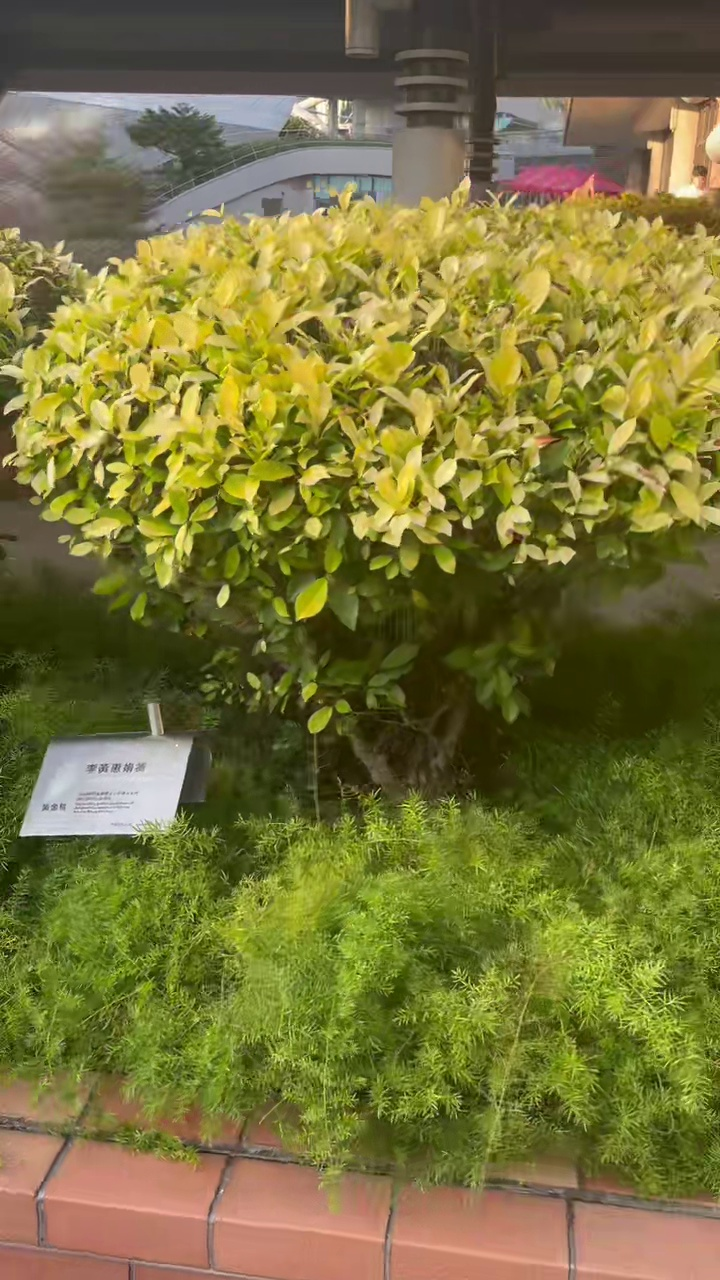Golden-leaves Fig: (13, 189, 719, 732)
